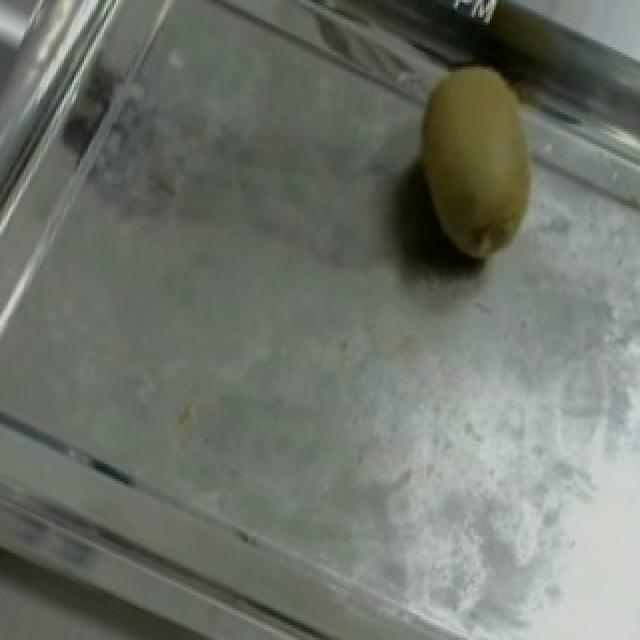Fruit: (376, 35, 572, 295)
